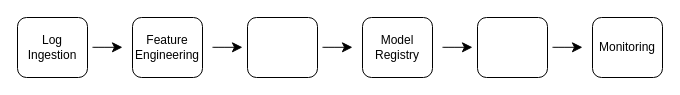
Some shapes in this 680 by 95 pixel diagram are drawn without their labels. The centre of each missing label's shape, as x and y in pixels:
Inference Service: [512,47]
Model Training: [282,47]
